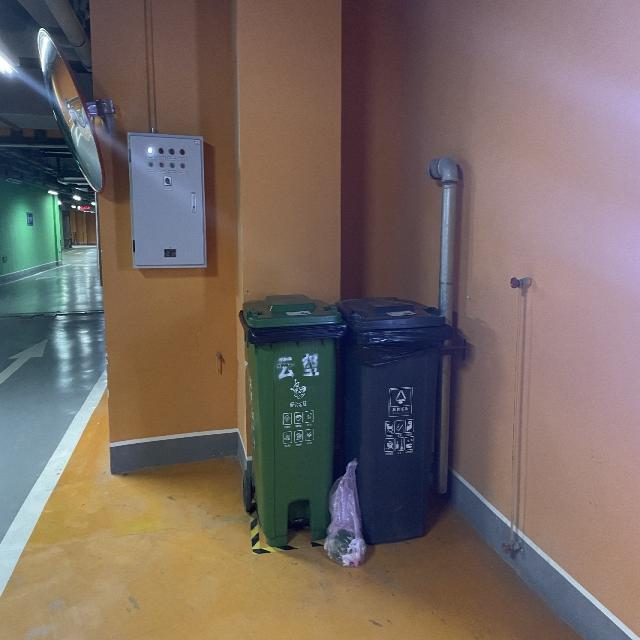garbage: (323, 455, 367, 567)
garbage_bin: (334, 294, 451, 546), (238, 292, 344, 547)
